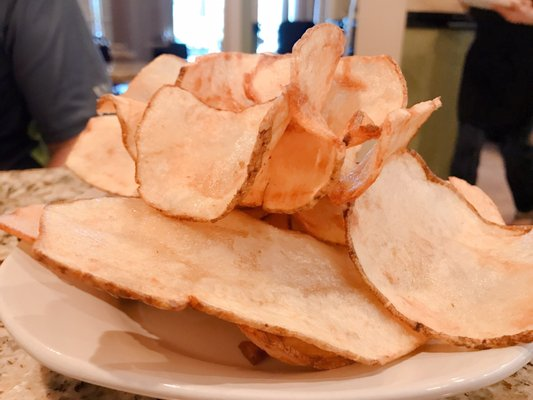soup: (9, 192, 428, 372)
